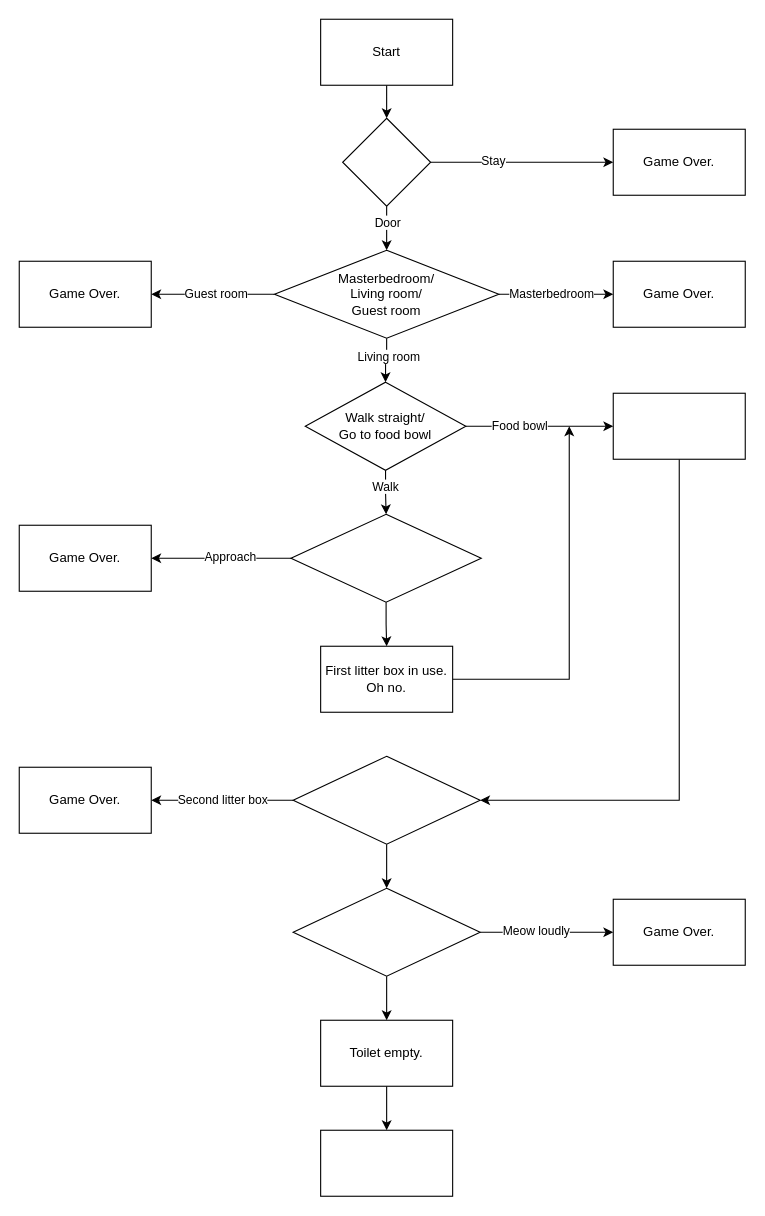
This 765x1216 diagram has some shape labels left out. Here are the shapes that lost their labels. From the top down, the box of each, then its label:
(342, 117, 431, 206): Door/ Stay
(612, 392, 745, 459): You feel your poop coming out.
(290, 513, 481, 602): Approach human/ Walk around human
(292, 755, 480, 844): Second litter box/ Guest toilet
(292, 887, 480, 976): Push door/ Meow loudly
(320, 1129, 453, 1196): End.
